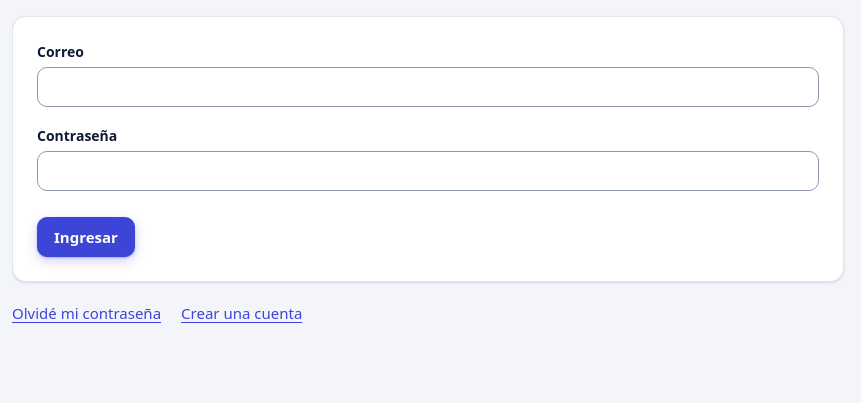
Test case: Ingresar › says when the email or the password is wrong, without saying which
Type "ana@example.test" into the field labelled "Correo". click: (428, 87)
box: top-left (37, 67), bottom-right (819, 107)
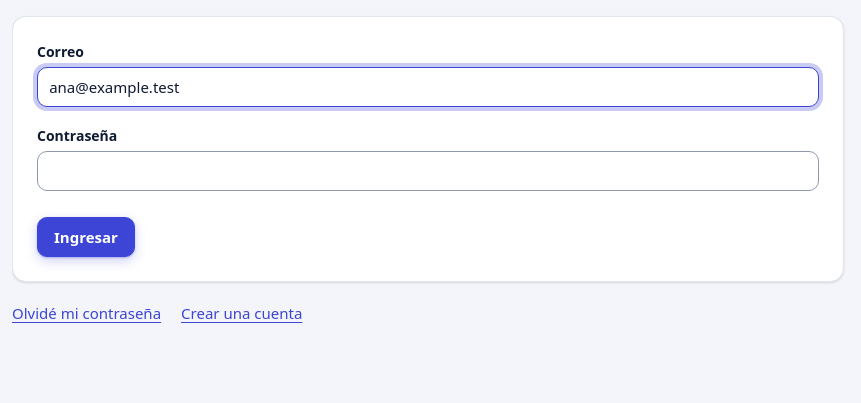
Type "no es" into the password field labelled "Contraseña". click: (428, 171)
box: top-left (37, 151), bottom-right (819, 191)
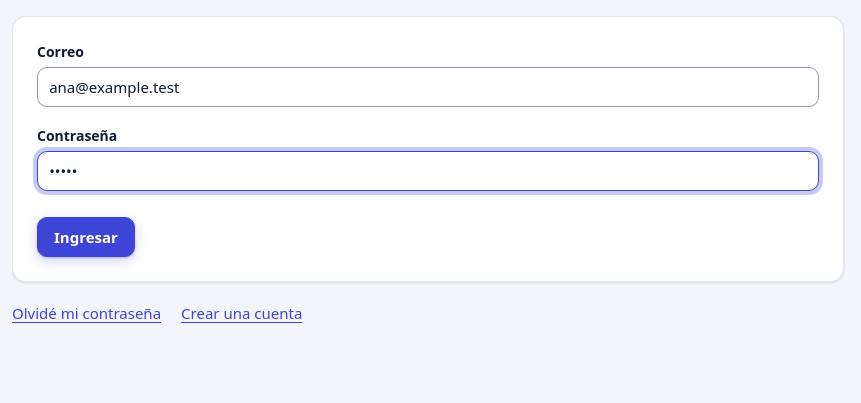
Click the button "Ingresar". click: (86, 237)
box: top-left (37, 217), bottom-right (135, 257)
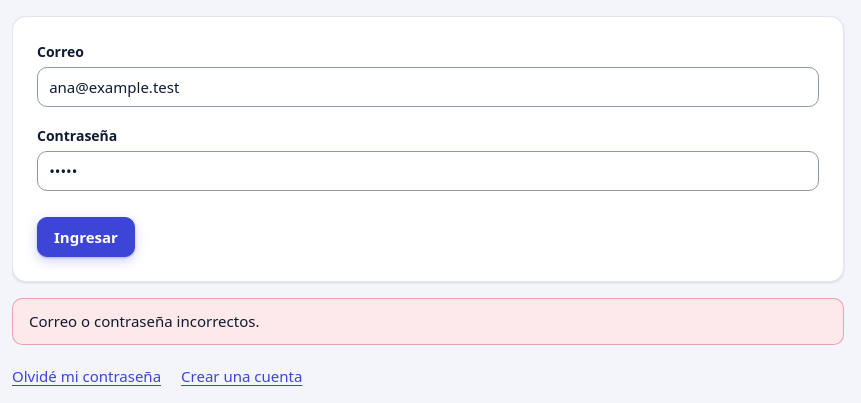
Result: the message reads "Correo o contraseña incorrectos." at top-left (29, 312), bottom-right (259, 332)
